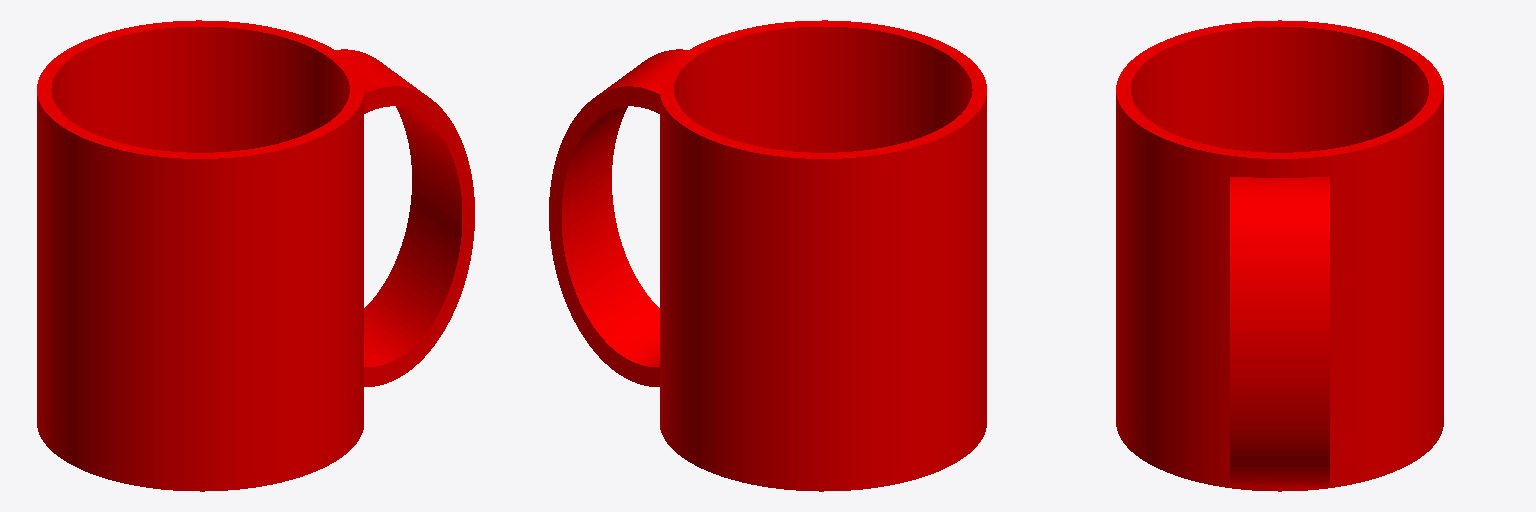
URDF robot description (mug.urdf):
<?xml version="1.0" ?>
<robot name="mug.urdf">
  <link name="baseLink">
    <inertial>
      <origin rpy="0 0 0" xyz="0 0 0"/>
       <mass value=".1"/>
       <inertia ixx="1" ixy="0" ixz="0" iyy="1" iyz="0" izz="1"/>
    </inertial>
    <contact>
      <lateral_friction value="1.0"/>
      <inertia_scaling value="3.0"/>
    </contact>
    <visual>
      <origin rpy="0 0 0" xyz="0 0 0"/>
      <geometry>
        <mesh filename="4.stl" scale="1 1 1" />
      </geometry>
      <material name="red">
        <color rgba="1 0 0 1"/>
      </material>
    </visual>
    <collision>
      <origin rpy="0 0 0" xyz="0 0 0"/>
      <geometry>
        <mesh filename="4_convex.obj" scale="1 1 1" />
      </geometry>
    </collision>
  </link>
</robot>

--- Facts derived from the render (not from the file) ---
3 views of the same robot in one strip: view 1: azimuth 30°, elevation 25°; view 2: azimuth 150°, elevation 25°; view 3: azimuth 270°, elevation 25° (orthographic).
Robot: mug.urdf — 1 links, 0 joints (none); root link baseLink; default pose: all joints at 0.
Links seen in each view (by area): view 1: baseLink; view 2: baseLink; view 3: baseLink.
Link boxes in pixels (x1,y1,x2,y2): baseLink: (37, 20, 474, 491); baseLink: (549, 20, 986, 491); baseLink: (1116, 20, 1443, 491).
Bounding box of the posed robot: 0.1548 × 0.1123 × 0.1257 m (x, y, z).
Meshes: 1 distinct files referenced, 1 mesh visuals loaded (1 binary STL).